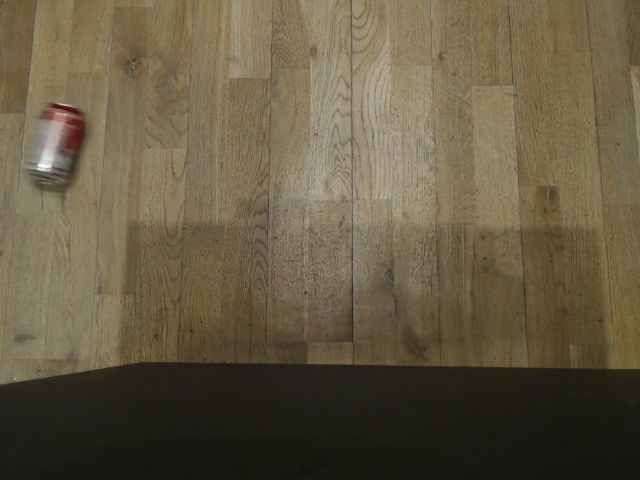coke: (23, 102, 87, 188)
